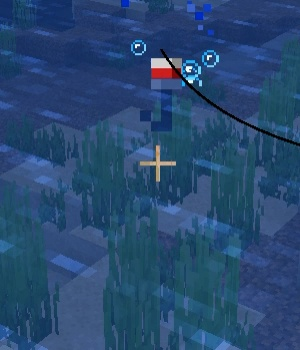up: (135, 53, 183, 139)
